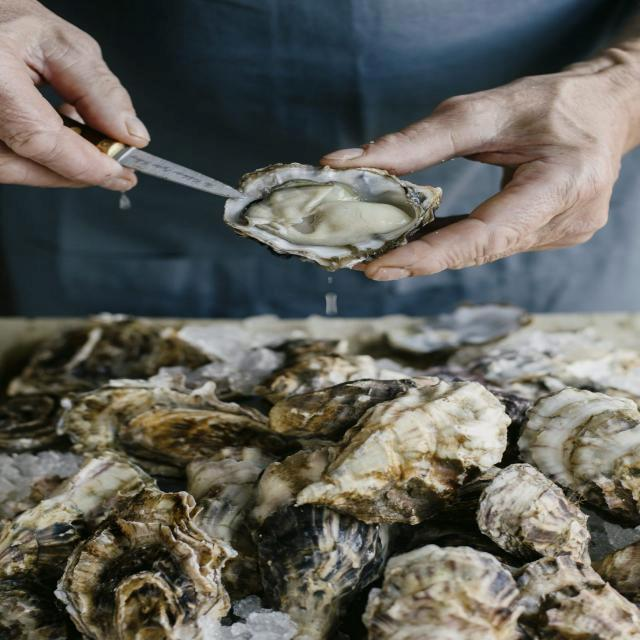Oyster-Closed: (278, 369, 521, 542), (231, 431, 406, 640), (44, 472, 255, 640), (44, 368, 320, 487), (252, 368, 549, 463), (0, 440, 167, 590), (494, 378, 640, 537), (177, 428, 295, 615), (334, 534, 541, 640), (461, 444, 620, 576), (1, 312, 224, 395), (490, 541, 640, 640), (244, 348, 403, 412), (0, 367, 76, 462), (363, 315, 476, 375), (500, 370, 640, 418), (426, 300, 552, 353), (0, 568, 84, 640), (247, 331, 363, 372), (587, 522, 640, 608)
Oyster-Open: (212, 146, 480, 290)
